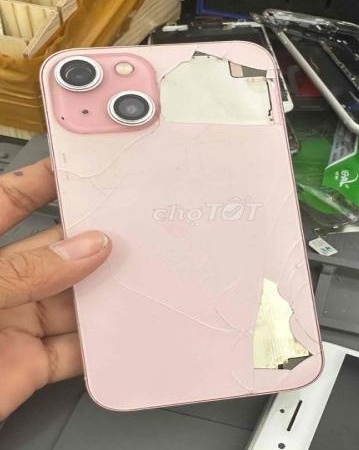physical_damage: (112, 252, 317, 388), (51, 133, 178, 233), (152, 49, 275, 135), (266, 182, 306, 261)
scratch: (53, 109, 81, 132)
